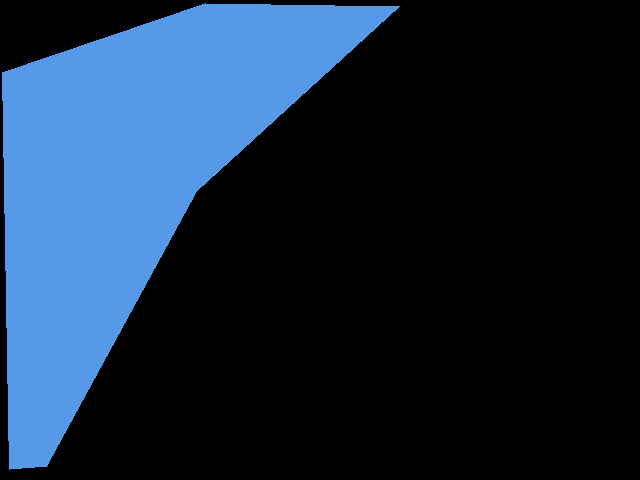Airplane: (2, 3, 400, 470)
